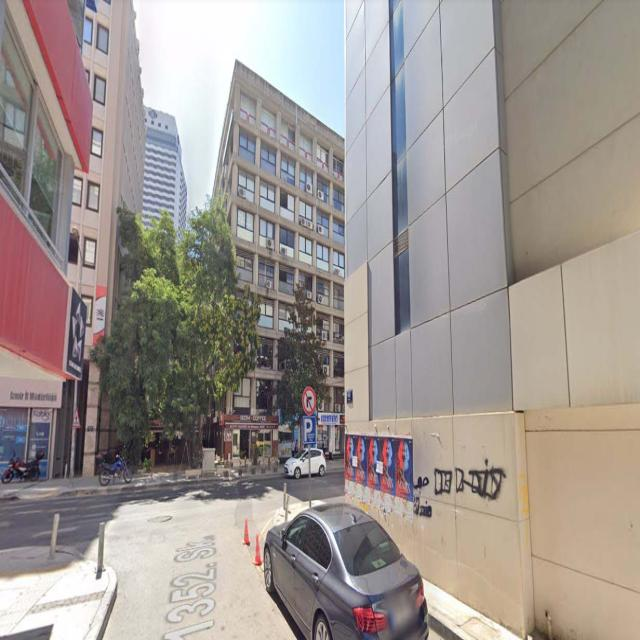park: (303, 419, 315, 446)
sagadonulmez: (303, 389, 314, 414)
